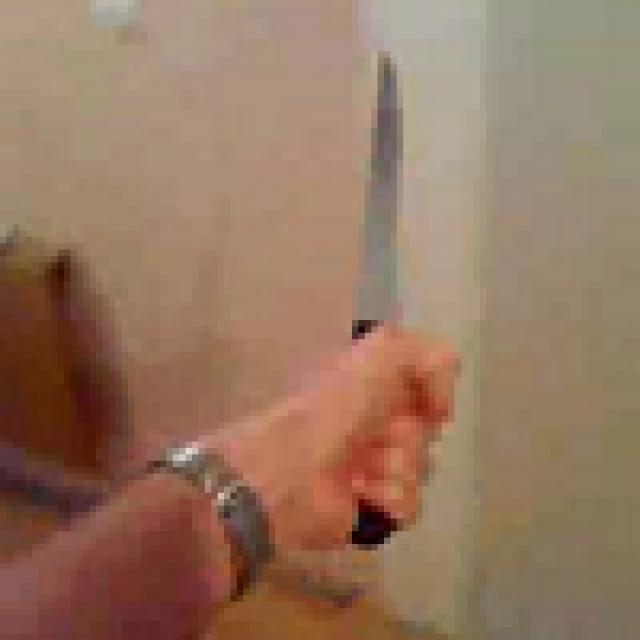Knife: (301, 39, 512, 582)
